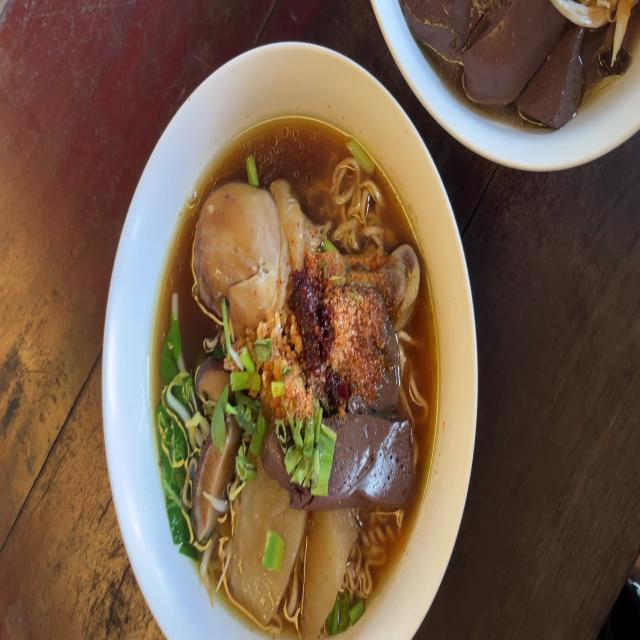noodle: (403, 0, 588, 121), (330, 415, 409, 507), (378, 312, 400, 408), (260, 424, 286, 479)
